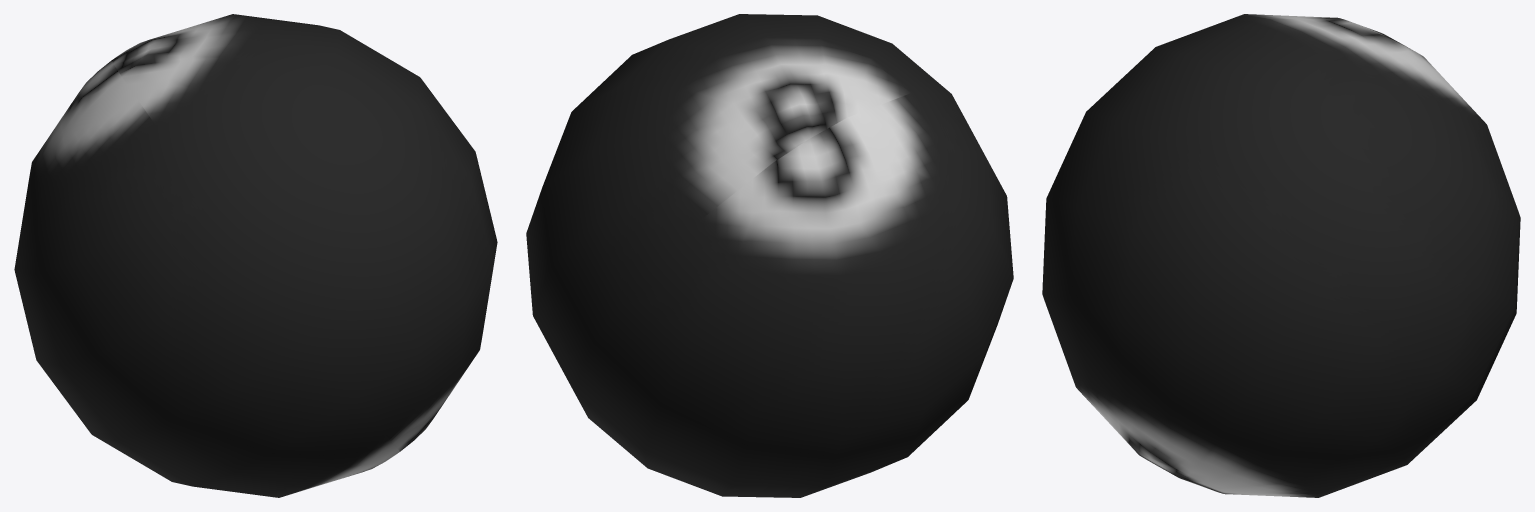
Rendered from SM_Cue_Ball_08.fbx.
3 views of the same model, side by side, from view 1: azimuth 30°, elevation 25°; view 2: azimuth 150°, elevation 25°; view 3: azimuth 270°, elevation 25° (orthographic).
Parts seen in each view (by area): view 1: SM_Cue_Ball_08_LOD0; view 2: SM_Cue_Ball_08_LOD0; view 3: SM_Cue_Ball_08_LOD0.
Boxes of the visible parts, bbox=[...] form: SM_Cue_Ball_08_LOD0: bbox=[14, 14, 497, 497]; SM_Cue_Ball_08_LOD0: bbox=[526, 14, 1013, 497]; SM_Cue_Ball_08_LOD0: bbox=[1042, 14, 1520, 497].
Size of the model in its own units: 6.8 by 6.71 by 6.86.
